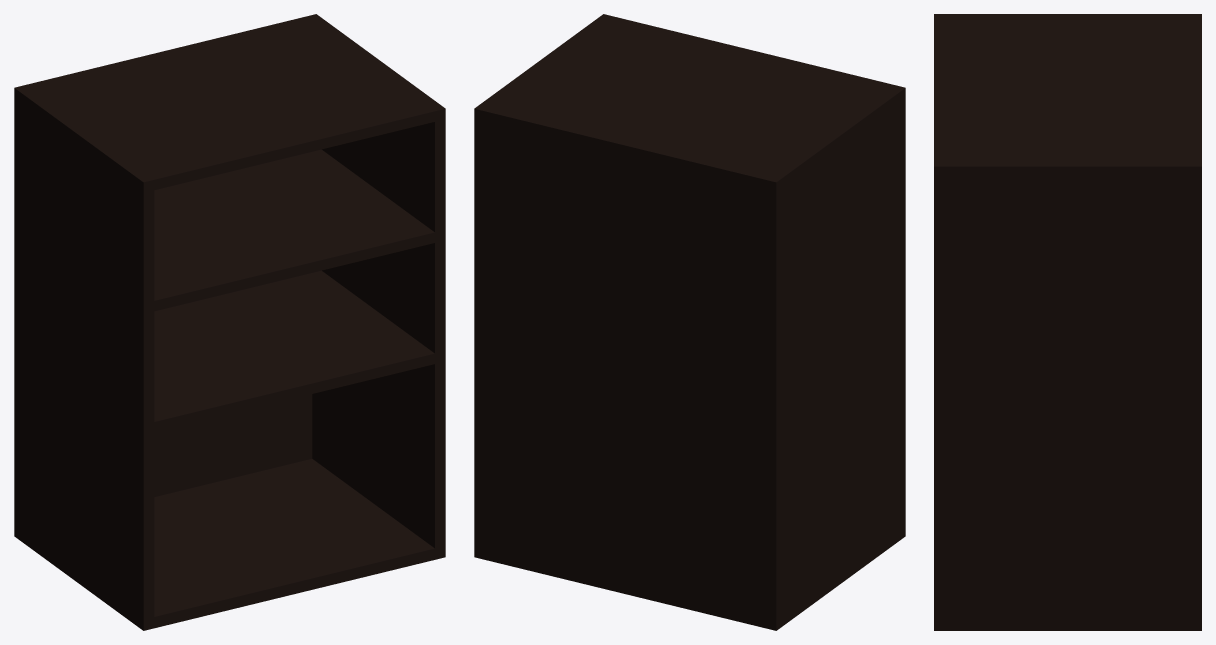
File: bookcase.FBX
The picture shows the model from 3 angles, left to right: view 1: azimuth 30°, elevation 25°; view 2: azimuth 150°, elevation 25°; view 3: azimuth 270°, elevation 25°; orthographic projection. The views are drawn at different scales.
Visible parts, largest first — view 1: bookcase; view 2: bookcase; view 3: bookcase.
Part boxes in pixels (box(x1,y1,x2,y2)): bookcase: box(14, 14, 445, 630); bookcase: box(474, 14, 905, 630); bookcase: box(934, 14, 1201, 630).
Bounding box in the file's own units: 34.29 × 48.63 × 25.43.
